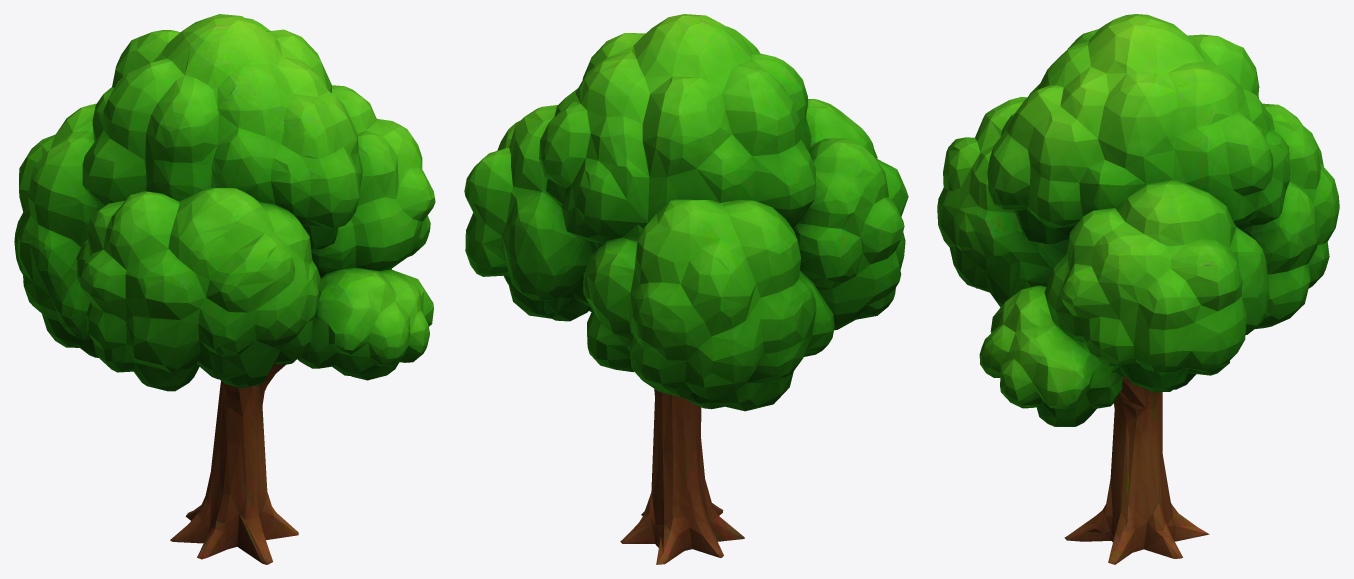
Rendered from arvore.glb.
3 views of the same model, side by side, from view 1: azimuth 30°, elevation 25°; view 2: azimuth 150°, elevation 25°; view 3: azimuth 270°, elevation 25° (orthographic).
Visible parts, largest first — view 1: geometry_0; view 2: geometry_0; view 3: geometry_0.
Part boxes in pixels (x1=…): geometry_0: x1=14, y1=14, x2=435, y2=564; geometry_0: x1=464, y1=14, x2=908, y2=564; geometry_0: x1=937, y1=14, x2=1339, y2=564.
Size of the model in its own units: 0.7622 by 1 by 0.7083.
1 material, 1 textured.
